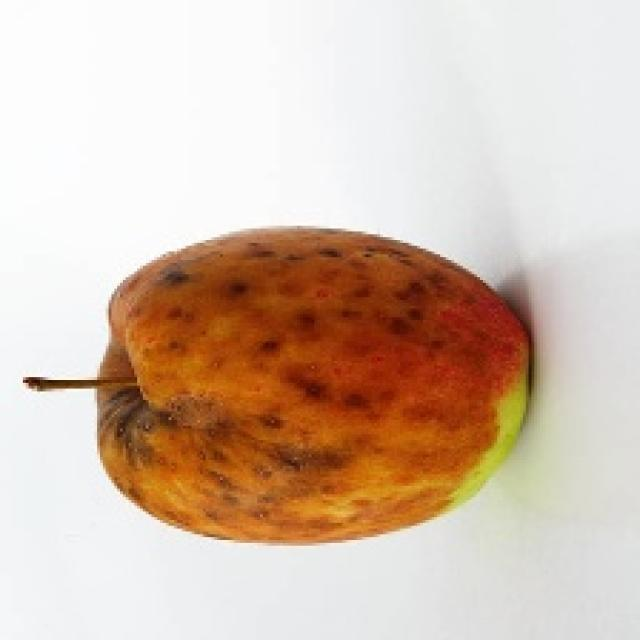rotten_apple: (106, 229, 532, 543)
